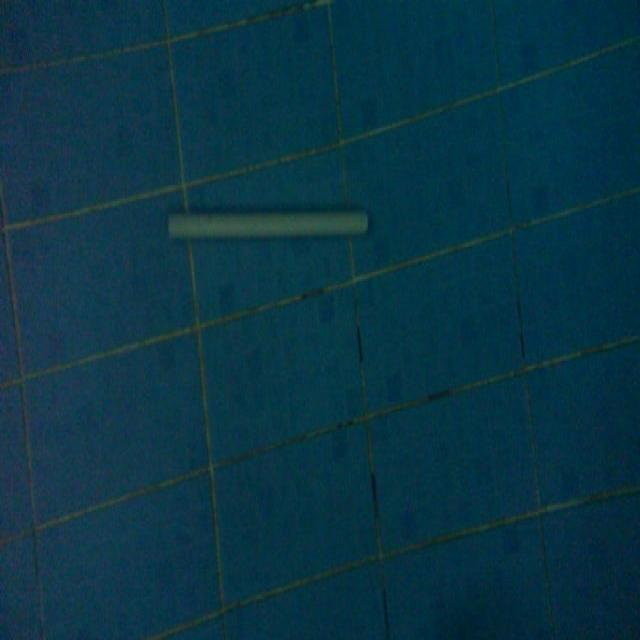Cube: (165, 202, 370, 244)
